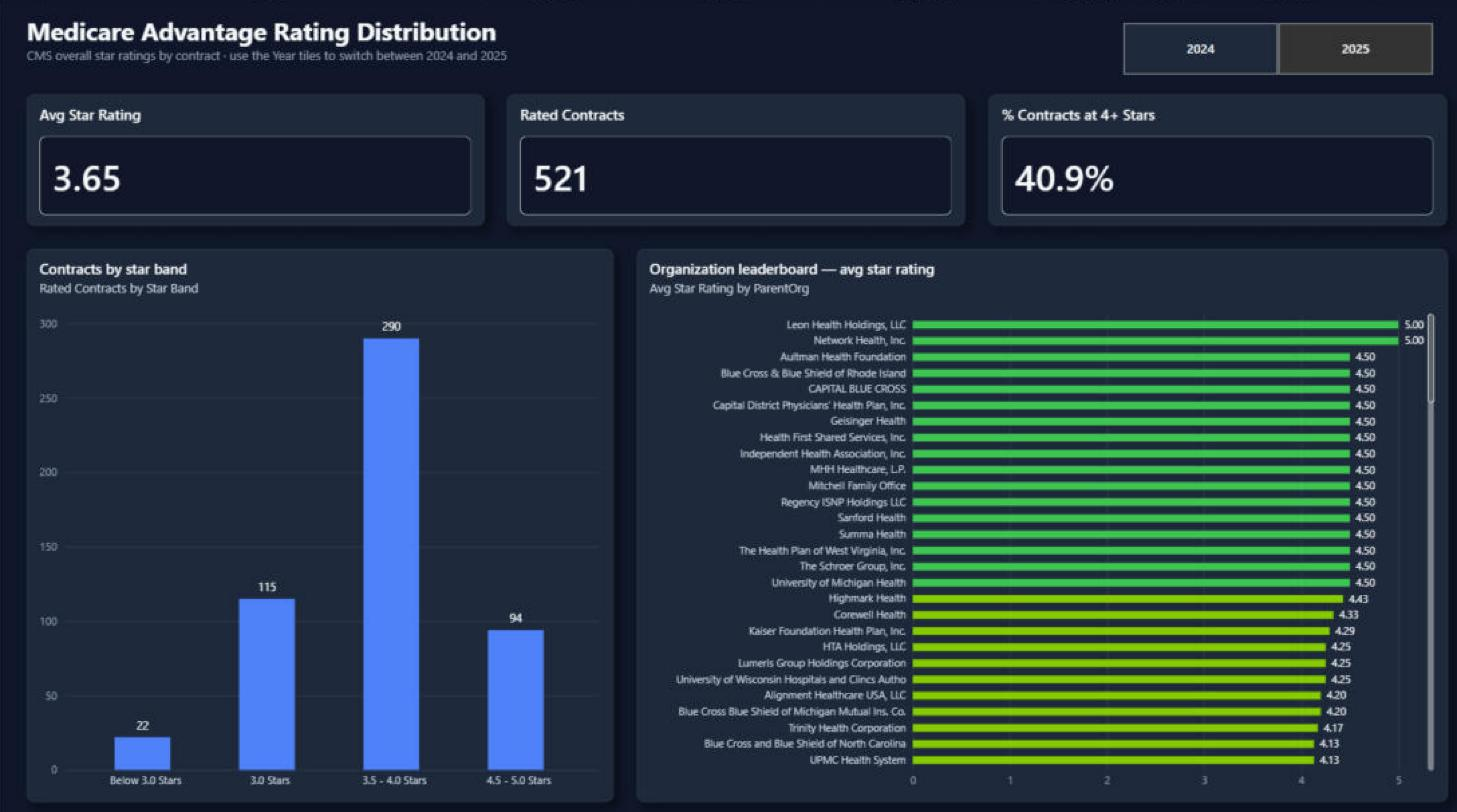

Layout of this report page (visuals, bound fields, positions):
{"tool":"powerbi","page":{"name":"Rating Distribution","canvas":[1920,1080],"ordinal":0},"visuals":[{"type":"textbox","box":[40,20,1300,84],"z":100},{"type":"slicer","fields":{"Values":["FactRatings.Year"]},"box":[1440,30,440,70],"z":200},{"type":"clusteredColumnChart","title":"Contracts by star band","fields":{"Category":["FactRatings.Star Band"],"Y":["_Measures.Rated Contracts"]},"box":[40,324,760,716],"z":300},{"type":"clusteredBarChart","title":"Organization leaderboard — avg star rating","fields":{"Category":["DimContract.ParentOrg"],"Y":["_Measures.Avg Star Rating"]},"box":[830,324,1050,716],"z":400},{"type":"cardVisual","title":"Avg Star Rating","fields":{"Data":["_Measures.Avg Star Rating"]},"box":[40,124,593,170],"z":1000},{"type":"cardVisual","title":"Rated Contracts","fields":{"Data":["_Measures.Rated Contracts"]},"box":[663,124,593,170],"z":3000},{"type":"cardVisual","title":"% Contracts at 4+ Stars","fields":{"Data":["_Measures.% Contracts 4+ Stars"]},"box":[1287,124,593,170],"z":4000}]}

Visuals, with their boxes in screenshot pixels (x1, y1, x2, y2), scaled from the page's 1920x1080 canvas onto the 1457x812 screenshot:
textbox: x1=30, y1=15, x2=1017, y2=78
slicer - FactRatings.Year: x1=1093, y1=23, x2=1427, y2=75
"Contracts by star band" clusteredColumnChart: x1=30, y1=244, x2=607, y2=782
"Organization leaderboard — avg star rating" clusteredBarChart: x1=630, y1=244, x2=1427, y2=782
"Avg Star Rating" cardVisual: x1=30, y1=93, x2=480, y2=221
"Rated Contracts" cardVisual: x1=503, y1=93, x2=953, y2=221
"% Contracts at 4+ Stars" cardVisual: x1=977, y1=93, x2=1427, y2=221
